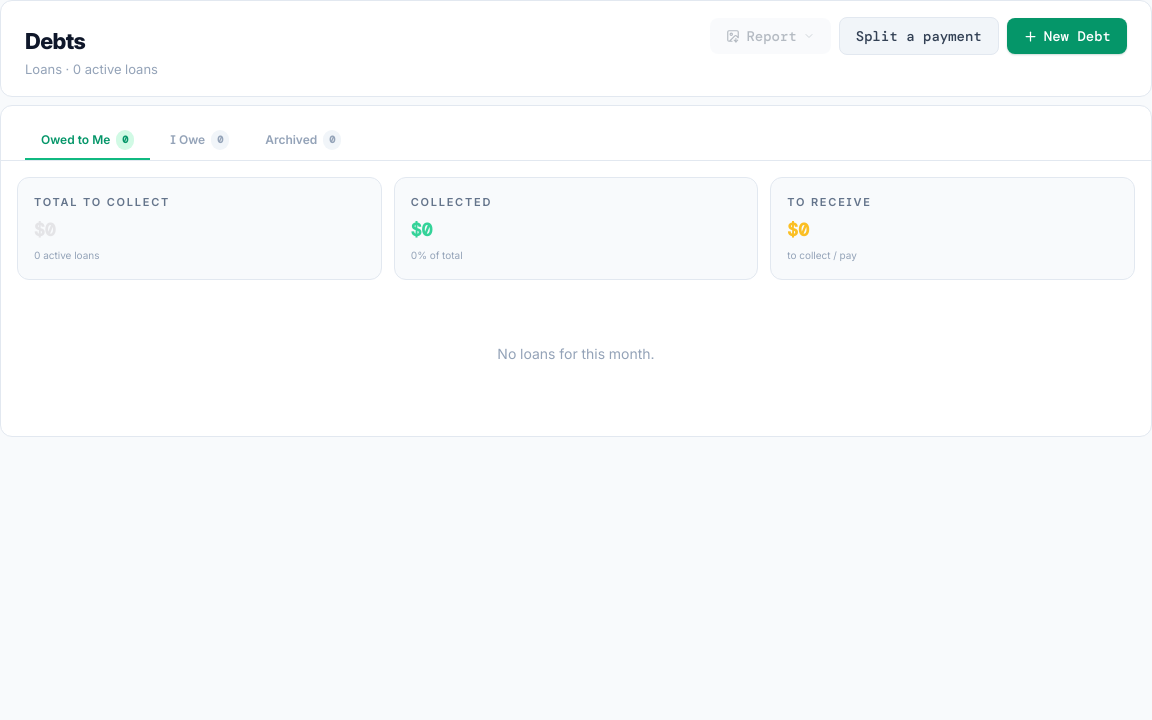
it: DebtKiller › blocks the write and flags every empty required field
Click the button "New Debt" at (1067, 36), box [1007,18,1127,54]
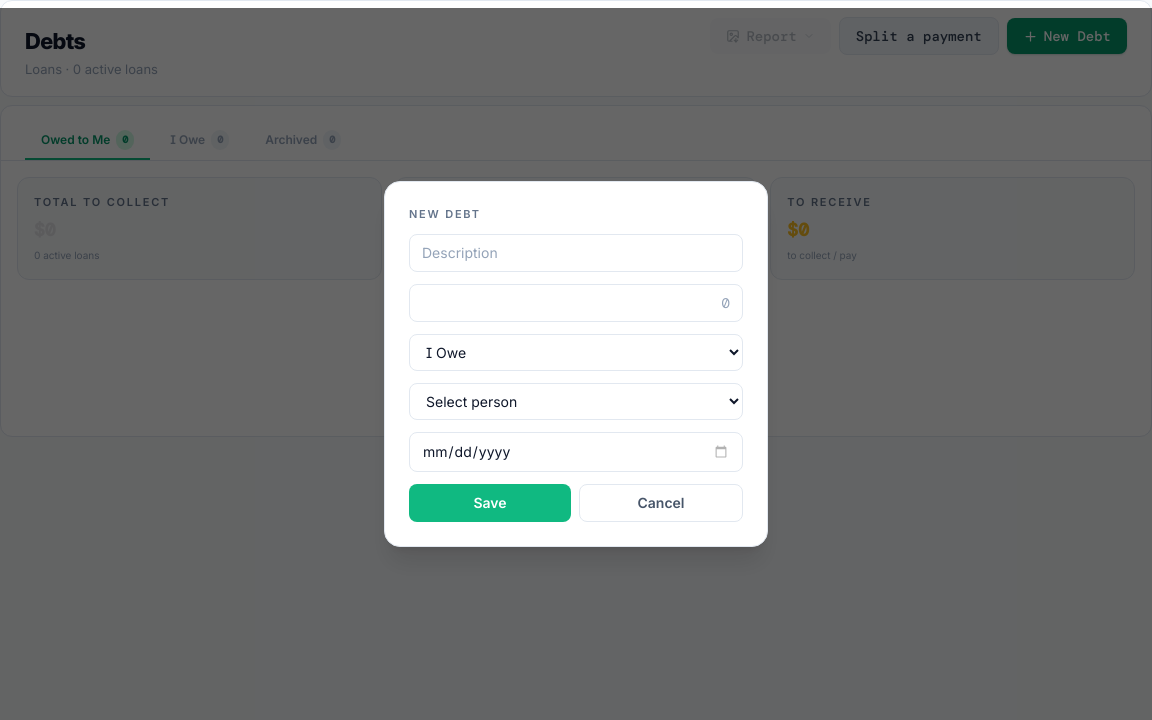
Now the field with placeholder "Description" is shown, box [409,234,743,272]
Click the button "Save" at (490, 503), box [409,484,571,522]
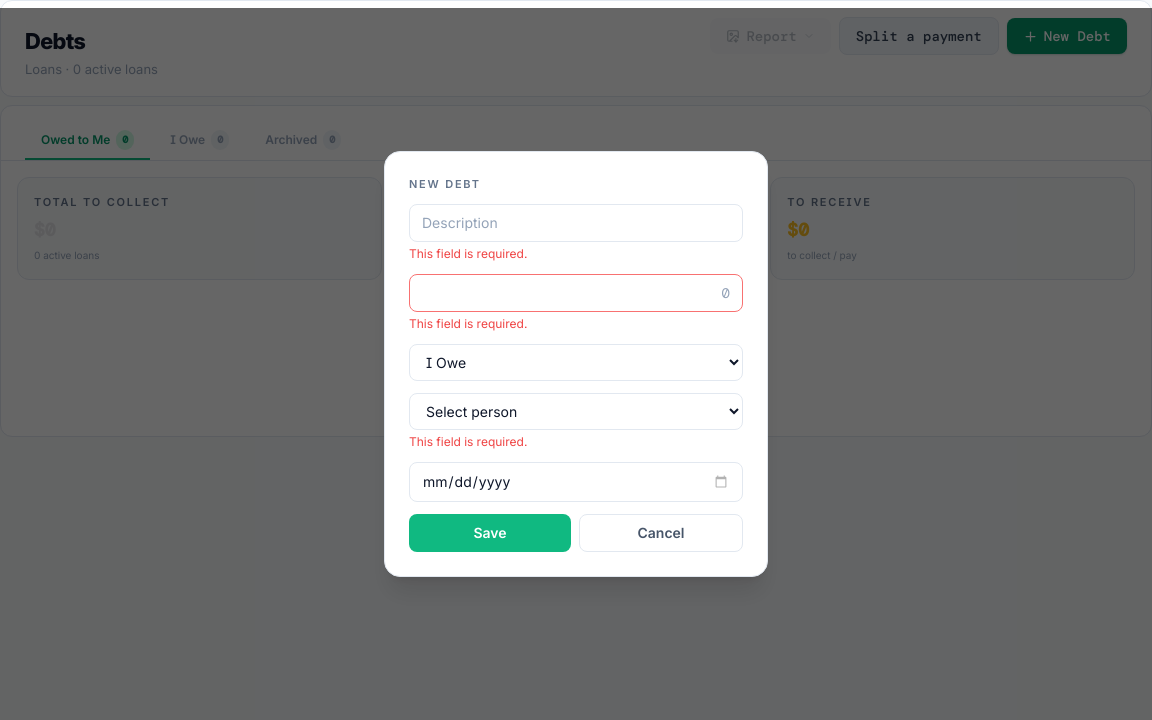
Now the text "This field is required." is shown 3 times, box [409,246,527,261]; [409,316,527,331]; [409,434,527,449]
